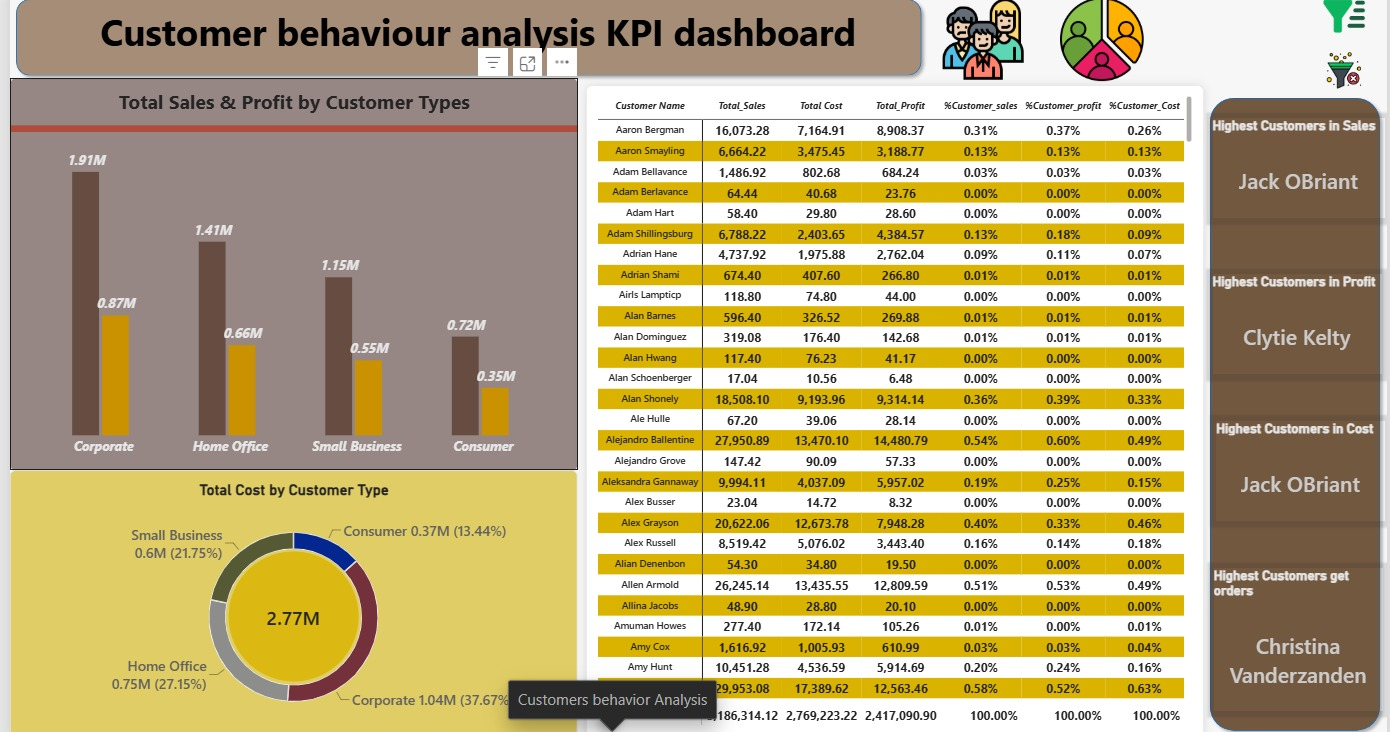

Layout of this report page (visuals, bound fields, positions):
{"tool":"powerbi","page":{"name":"Customers behavior Analysis","canvas":[1999,1080],"ordinal":2},"visuals":[{"type":"shape","box":[0,0,1332.9,128.9],"z":0},{"type":"textbox","box":[56.3,20,1247.6,81.7],"z":1000},{"type":"clusteredColumnChart","title":"Total Sales & Profit by Customer Types","fields":{"Category":["Dim_Customer.Customer Type"],"Y":["Calculation.Total_Sales","Calculation.Total_Profit"]},"box":[0,123.5,824.4,570.2],"z":4000},{"type":"shape","box":[1734.2,143.5,265.1,937],"z":5000},{"type":"cardVisual","title":"Highest Customers in Sales","fields":{"Data":["Calculation.highestCustomer-Sales"]},"box":[1747.3,181.8,250.9,145.5],"z":6000},{"type":"cardVisual","title":"Highest Customers in Profit","fields":{"Data":["Calculation.HighestCustomerByProfit"]},"box":[1747.3,409.1,245.5,145.5],"z":7000},{"type":"cardVisual","title":"Highest Customers in Cost","fields":{"Data":["Calculation.TopCustomerByCost"]},"box":[1752.7,621.8,245.5,145.5],"z":8000},{"type":"cardVisual","title":"Highest Customers get orders","fields":{"Data":["Calculation.highestCsutomer_Orders"]},"box":[1749.1,834.5,245.5,207.3],"z":9000},{"type":"image","box":[1352.7,0,121.8,134.5],"z":10000},{"type":"image","box":[1525.5,0,121.8,134.5],"z":11000},{"type":"pivotTable","fields":{"Rows":["Dim_Customer.Customer Name"],"Values":["Calculation.Total_Sales","Calculation.Total Cost","Calculation.Total_Profit","Calculation.percentage_salesCust","Calculation.%Customer_profit","Calculation.%Customer_Cost"]},"box":[837.2,134.4,897.1,946.1],"z":12000},{"type":"donutChart","fields":{"Category":["Dim_Customer.Customer Type"],"Y":["Calculation.Total Cost"]},"box":[0,693,824,387],"z":13000},{"type":"image","box":[1875.9,0,123.5,67.2],"z":14000},{"type":"image","box":[1875.9,81.7,123.5,61.7],"z":15000}]}

Visuals, with their boxes in screenshot pixels (x1, y1, x2, y2), scaled from the page's 1999x1080 canvas onto the 1390x732 screenshot:
shape: [left=0, top=0, right=927, bottom=87]
textbox: [left=39, top=14, right=907, bottom=69]
"Total Sales & Profit by Customer Types" clusteredColumnChart: [left=0, top=84, right=573, bottom=470]
shape: [left=1206, top=97, right=1389, bottom=731]
"Highest Customers in Sales" cardVisual: [left=1215, top=123, right=1389, bottom=222]
"Highest Customers in Profit" cardVisual: [left=1215, top=277, right=1386, bottom=376]
"Highest Customers in Cost" cardVisual: [left=1219, top=421, right=1389, bottom=520]
"Highest Customers get orders" cardVisual: [left=1216, top=566, right=1387, bottom=706]
image: [left=941, top=0, right=1025, bottom=91]
image: [left=1061, top=0, right=1145, bottom=91]
pivotTable - Dim_Customer.Customer Name x Calculation.Total_Sales: [left=582, top=91, right=1206, bottom=731]
donutChart - Dim_Customer.Customer Type x Calculation.Total Cost: [left=0, top=470, right=573, bottom=731]
image: [left=1304, top=0, right=1389, bottom=46]
image: [left=1304, top=55, right=1389, bottom=97]
